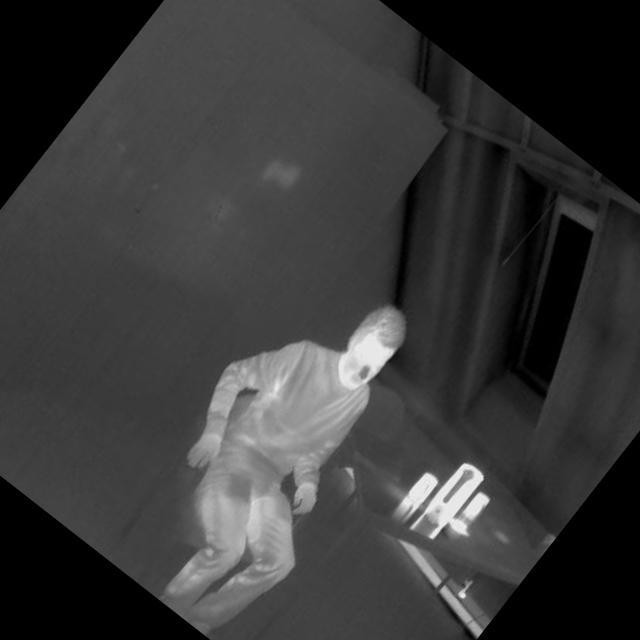person: (87, 245, 469, 640)
